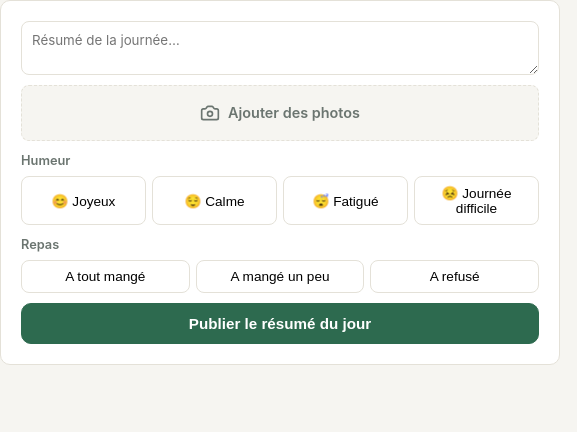
Test case: PostComposer › submitting with neither a summary nor a photo is blocked client-side
Click the button "Publier le résumé du jour". click: (280, 324)
box: [21,303,539,344]
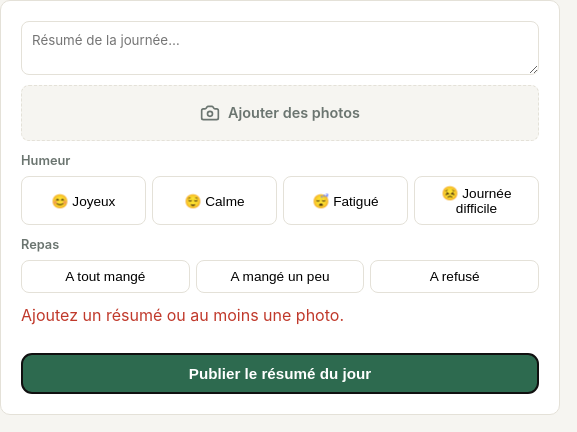
Expected: the text "Ajoutez un résumé ou au moins une photo." is shown, [21,305,344,325]
